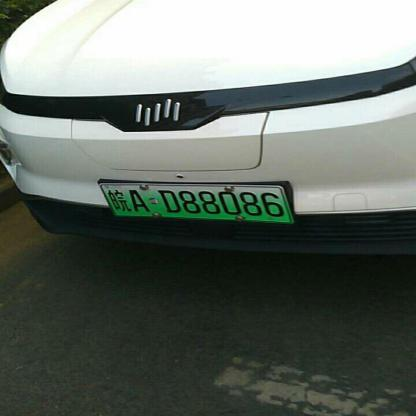lp: (100, 184, 292, 221)
